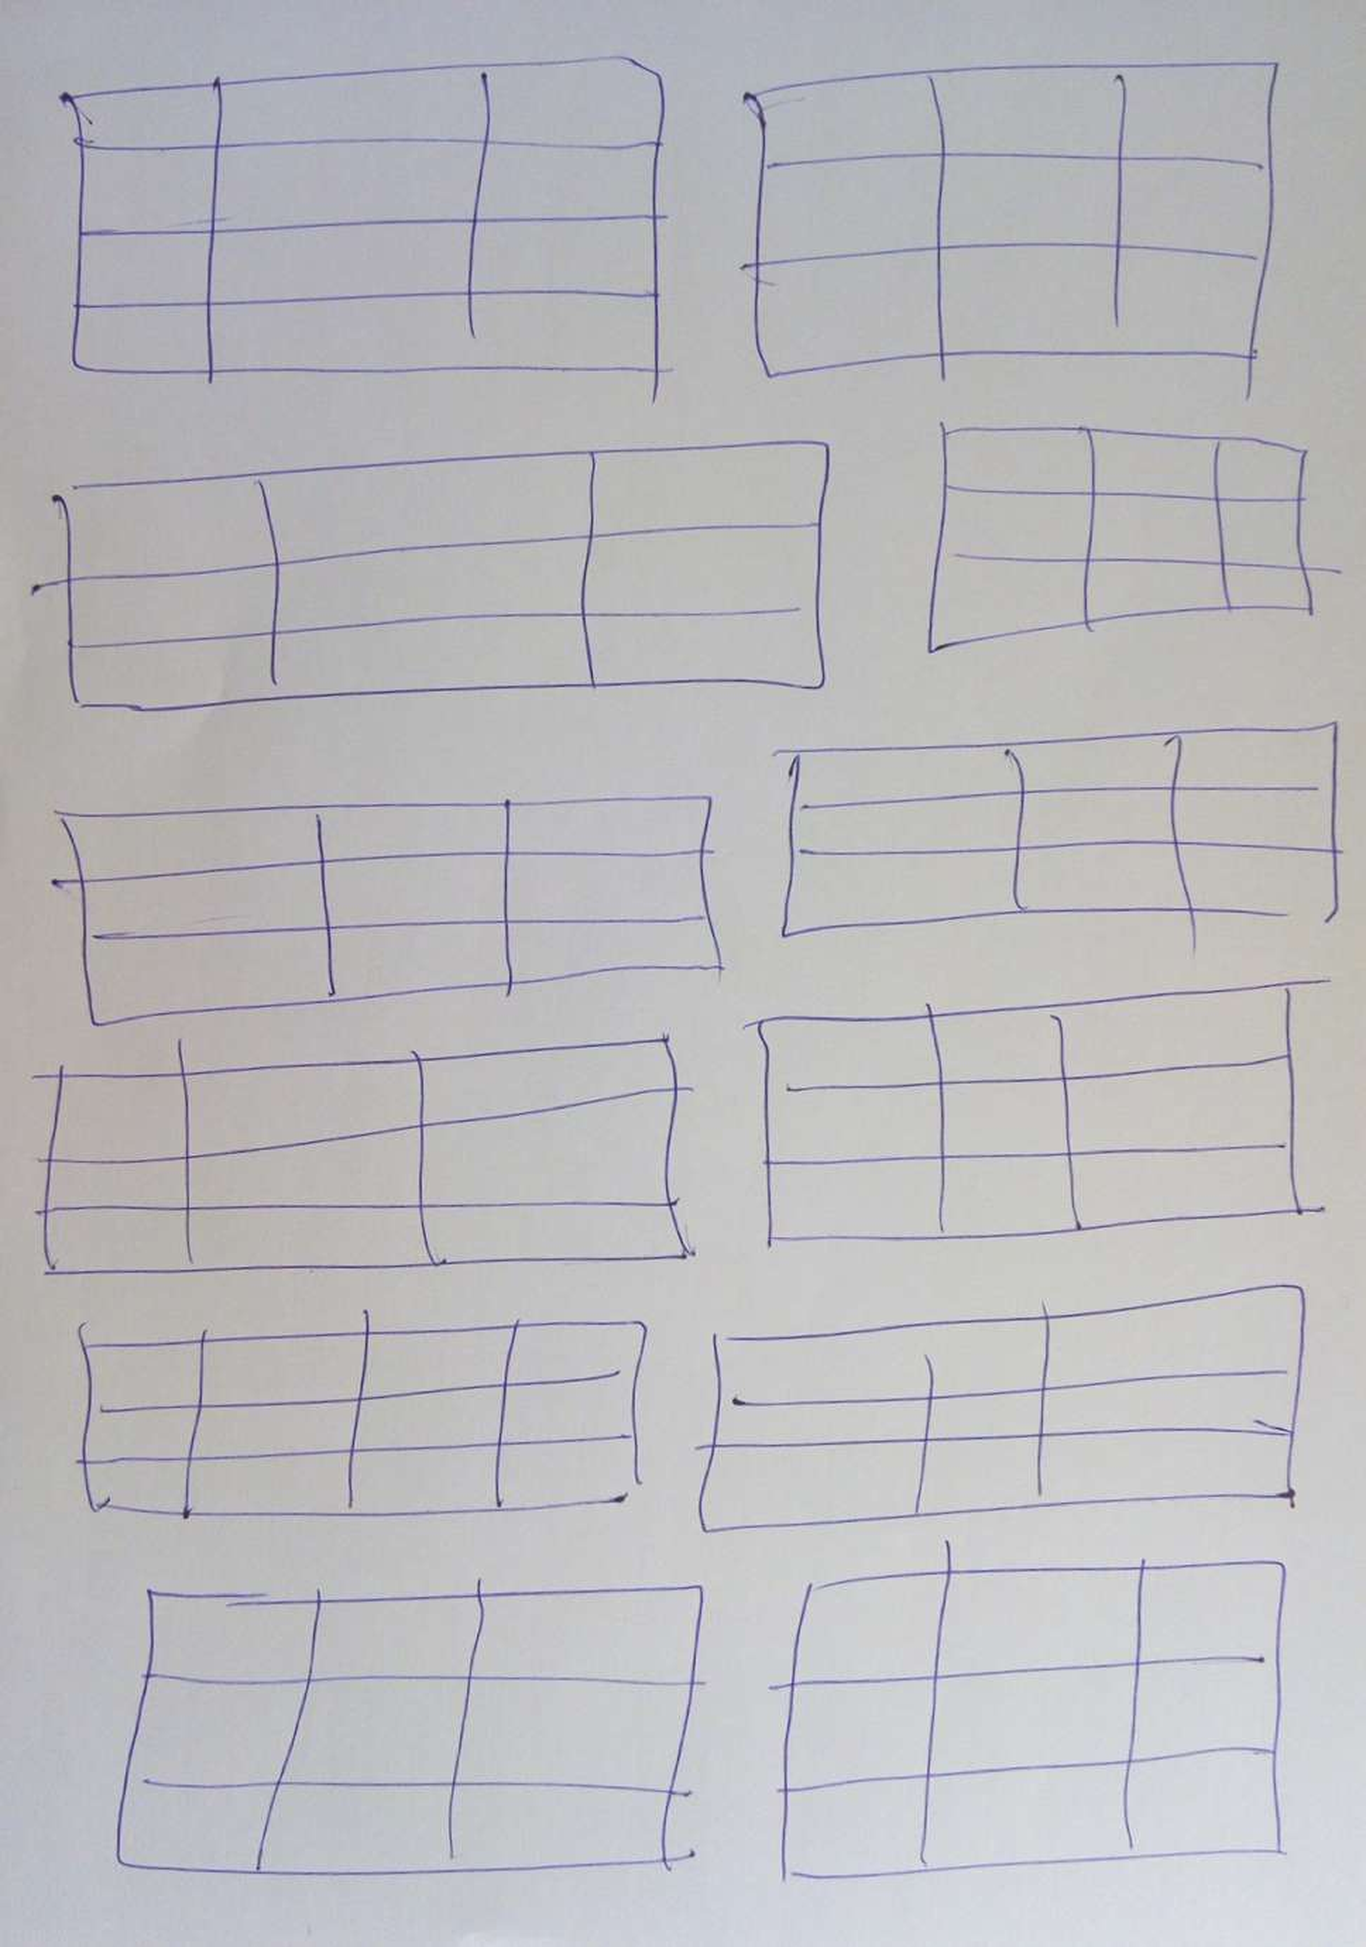Table: (31, 439, 830, 712), (58, 56, 669, 407), (737, 62, 1279, 402), (770, 1540, 1288, 1880), (115, 1579, 706, 1876), (44, 786, 727, 1027), (21, 1033, 696, 1275), (741, 979, 1330, 1250), (694, 1284, 1305, 1533), (773, 721, 1344, 971), (56, 1298, 648, 1519), (926, 422, 1342, 654)
